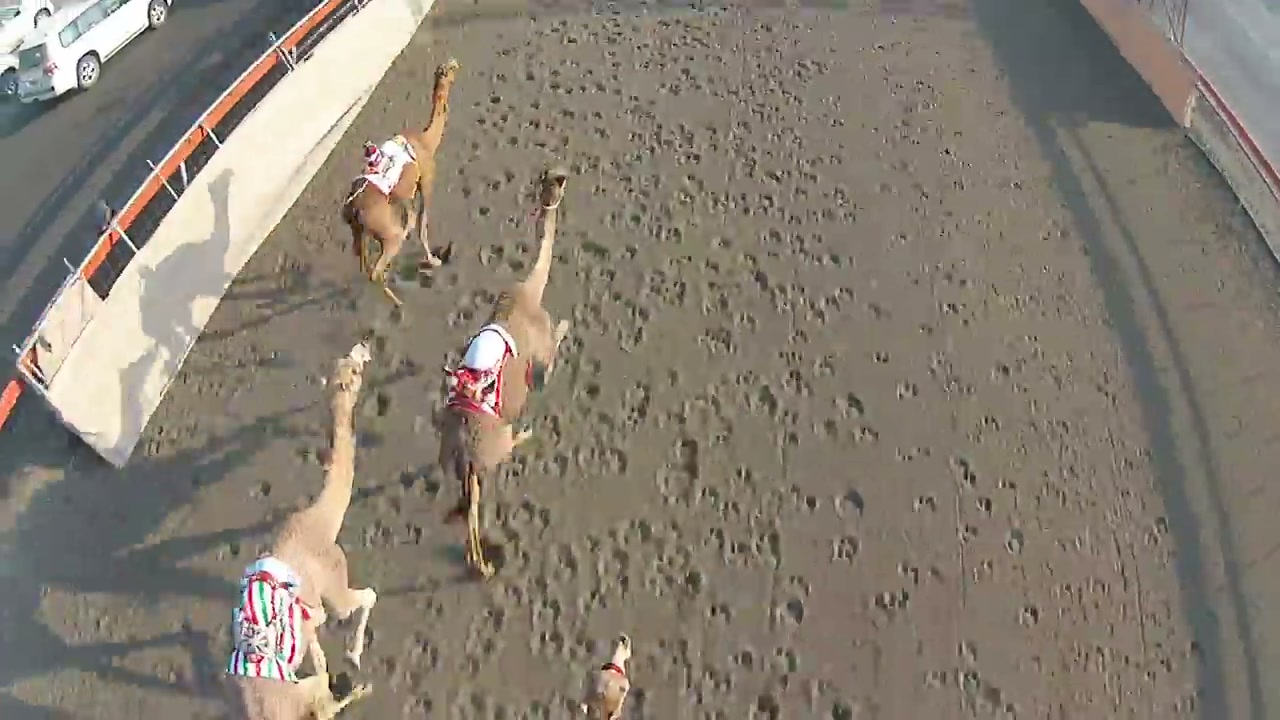animal_footprint: (342, 0, 573, 719), (451, 47, 651, 657), (635, 73, 762, 506), (620, 46, 659, 458)
